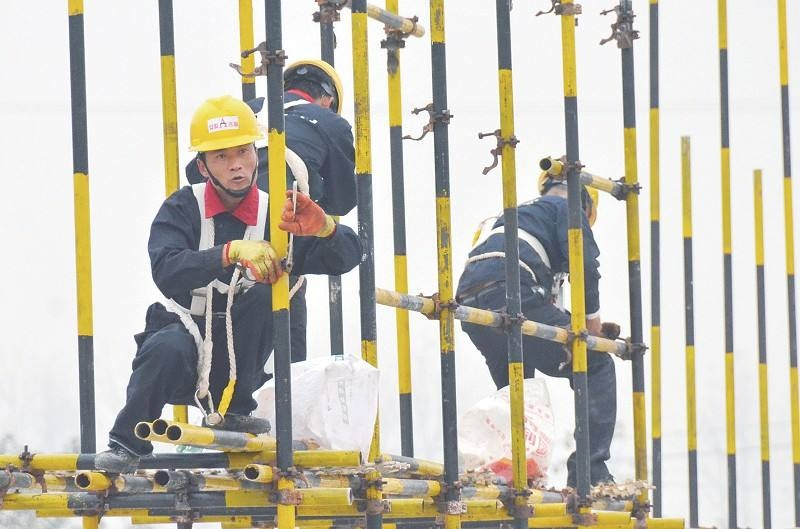yellow: (186, 93, 262, 197), (536, 152, 602, 225), (280, 54, 348, 120)
